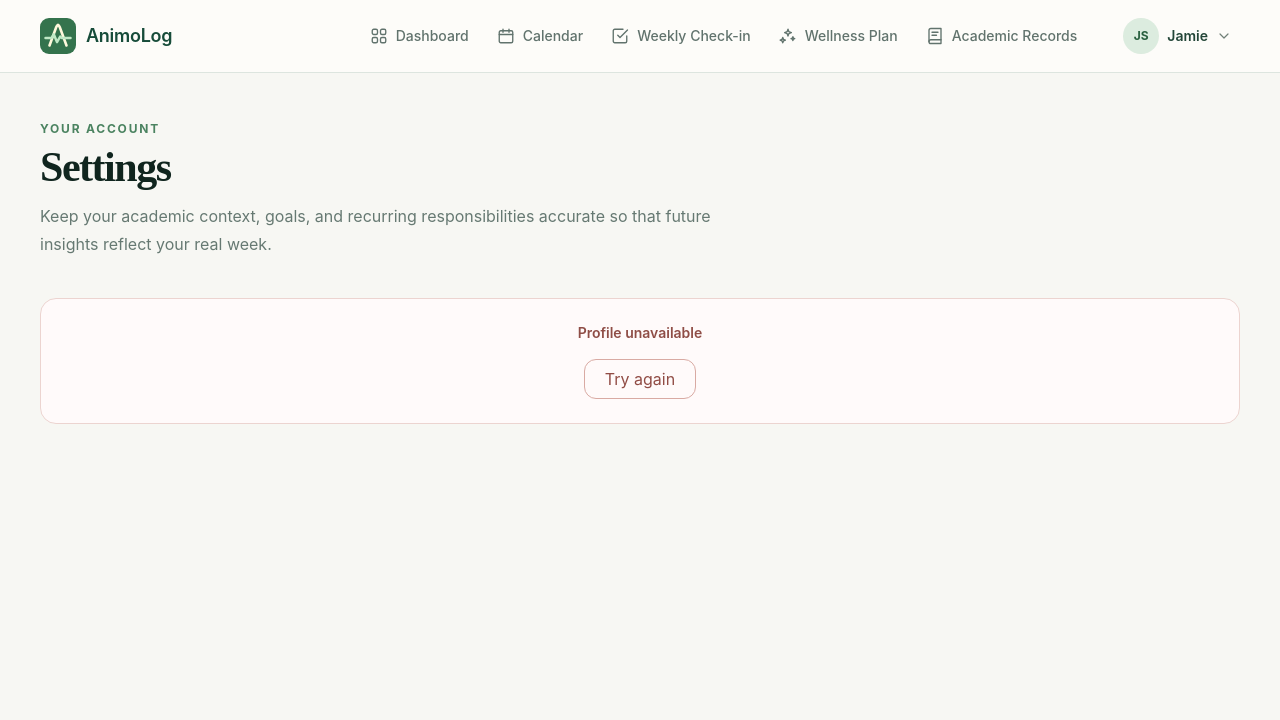
Test case: Settings backend data › shows profile-load failures and retries
The width and height of the screenshot is (1280, 720).
Expected: the message shows "Profile unavailable", [578,324,702,341]
Click the button "Try again": x=640, y=379 [584,359,696,399]
(page scrolled)
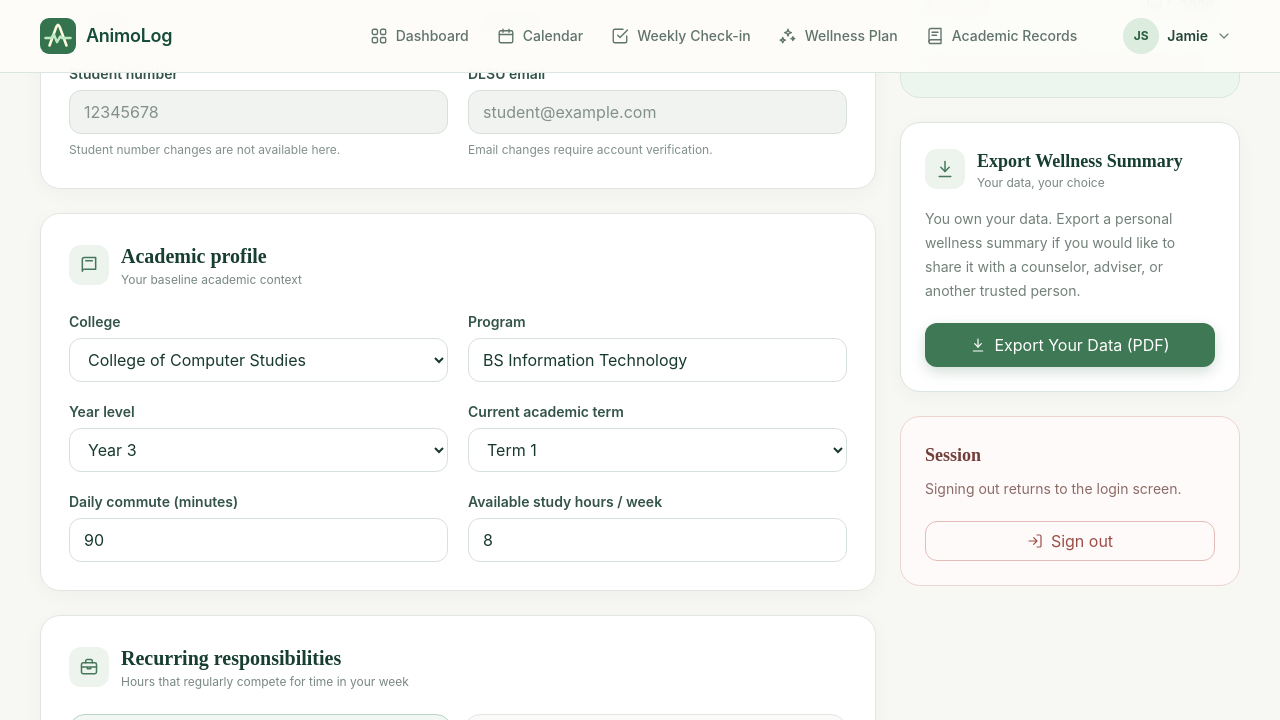
Now the field showing "BS Information Technology" is shown, box [468,338,847,382]
